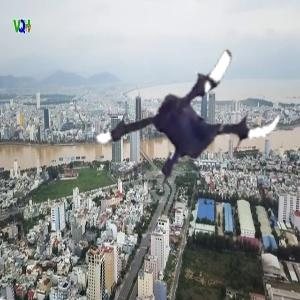drone: (93, 14, 287, 208)
